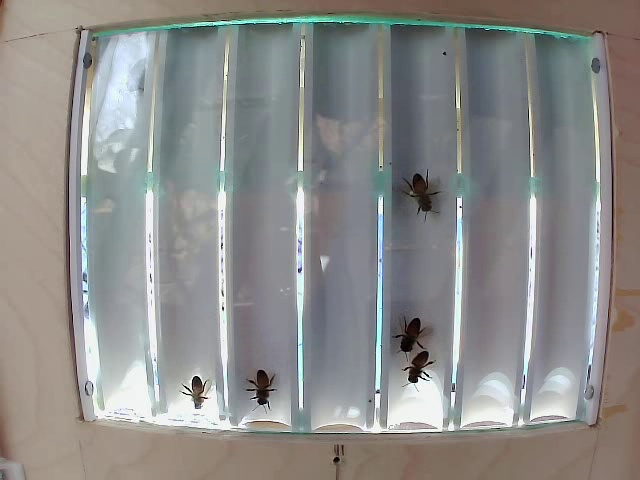bee: (230, 366, 294, 399), (389, 307, 434, 351), (397, 345, 443, 386), (403, 165, 437, 220), (172, 370, 209, 407)
